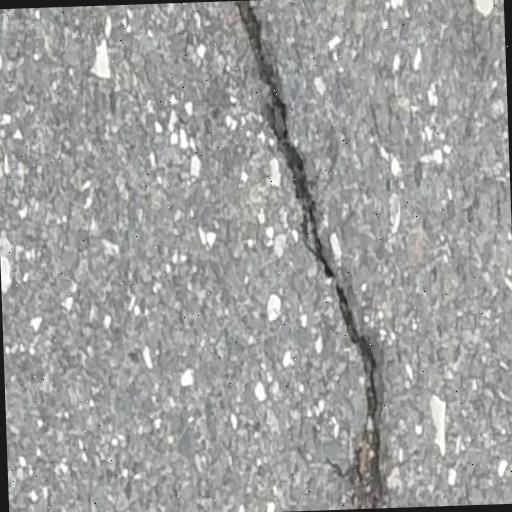spalling: (222, 1, 393, 506)
